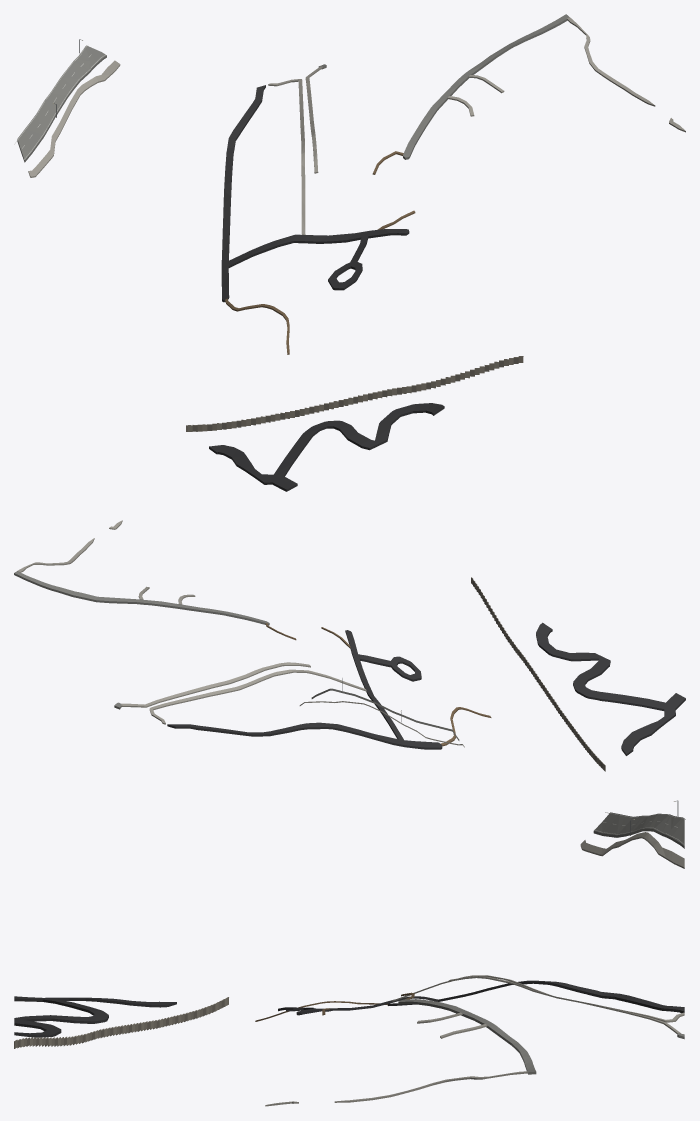
Rendered from 17-109435-59477.bad2335a.glb.
3 views of the same model, one above another, from view 1: azimuth 30°, elevation 25°; view 2: azimuth 150°, elevation 25°; view 3: azimuth 270°, elevation 25° (orthographic). The views are drawn at different scales.
Bounding box in the file's own units: 297 × 122 × 292.
